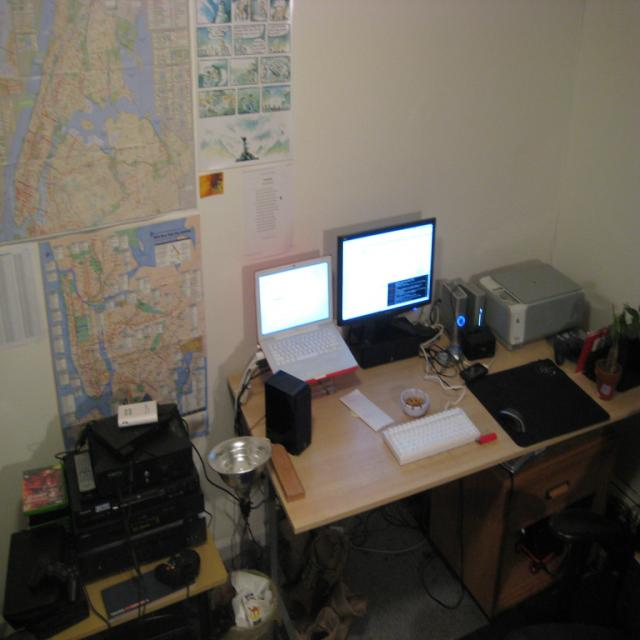desk: (229, 380, 640, 634)
keyboard: (382, 406, 482, 466)
laptop: (255, 252, 362, 391)
mouse: (154, 548, 201, 588), (399, 388, 429, 418), (498, 408, 526, 434)
tv: (323, 213, 438, 329)
